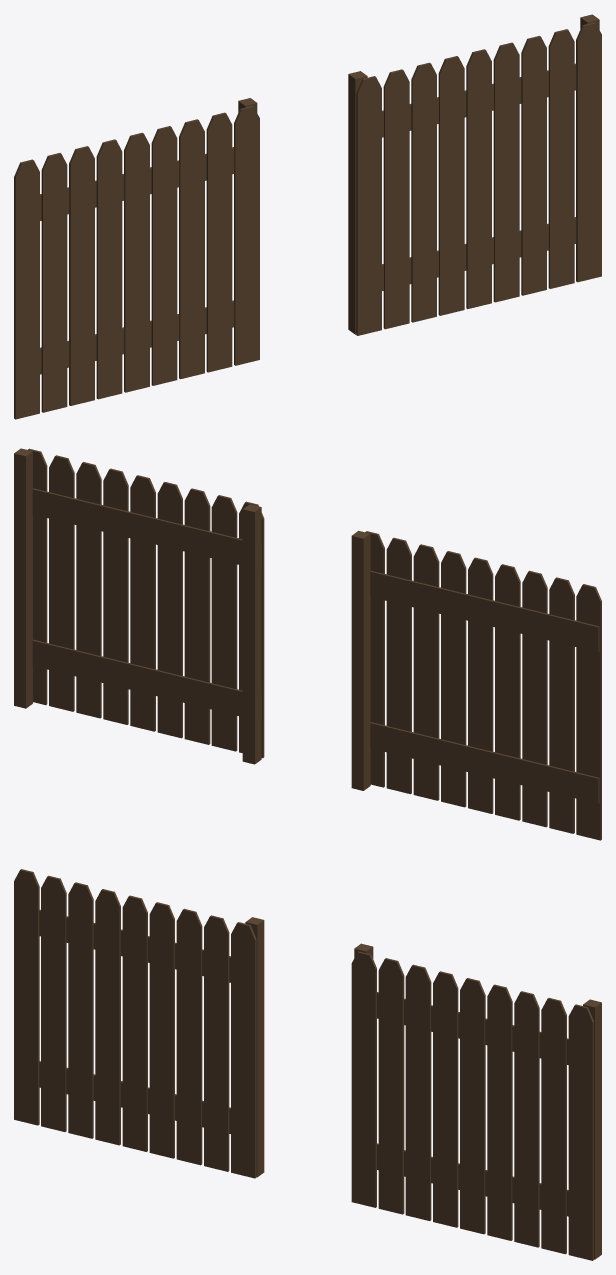
The model's file is Privacy Fence.fbx.
3 renders of one model, top to bottom at view 1: azimuth 30°, elevation 25°; view 2: azimuth 150°, elevation 25°; view 3: azimuth 330°, elevation 25°, orthographic.
Visible parts, largest first — view 1: Fence Full, Fence Half; view 2: Fence Full, Fence Half; view 3: Fence Full, Fence Half.
Boxes of the visible parts, box(x1,y1,x2,y2) form: Fence Full: box(348, 14, 601, 335); Fence Half: box(14, 98, 259, 419); Fence Full: box(14, 448, 264, 764); Fence Half: box(351, 530, 601, 840); Fence Full: box(351, 943, 601, 1260); Fence Half: box(14, 869, 264, 1178).
Size of the model in its own units: 480 by 200 by 13.4.
